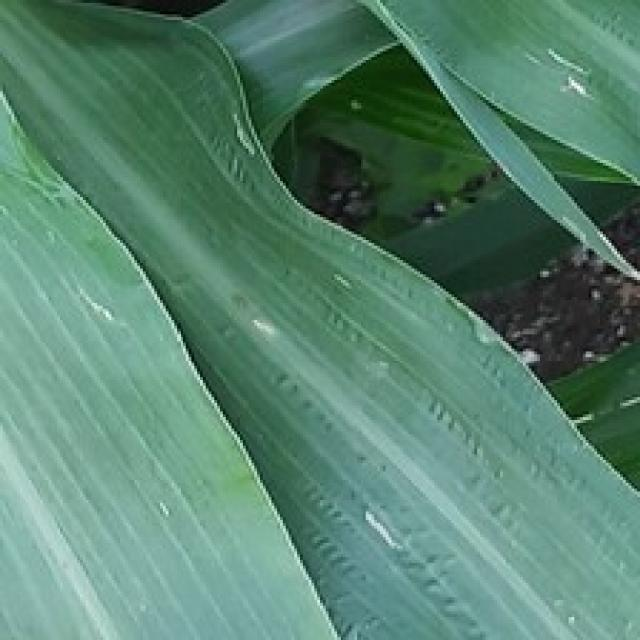Corn: (0, 0, 637, 637), (329, 0, 637, 289)
